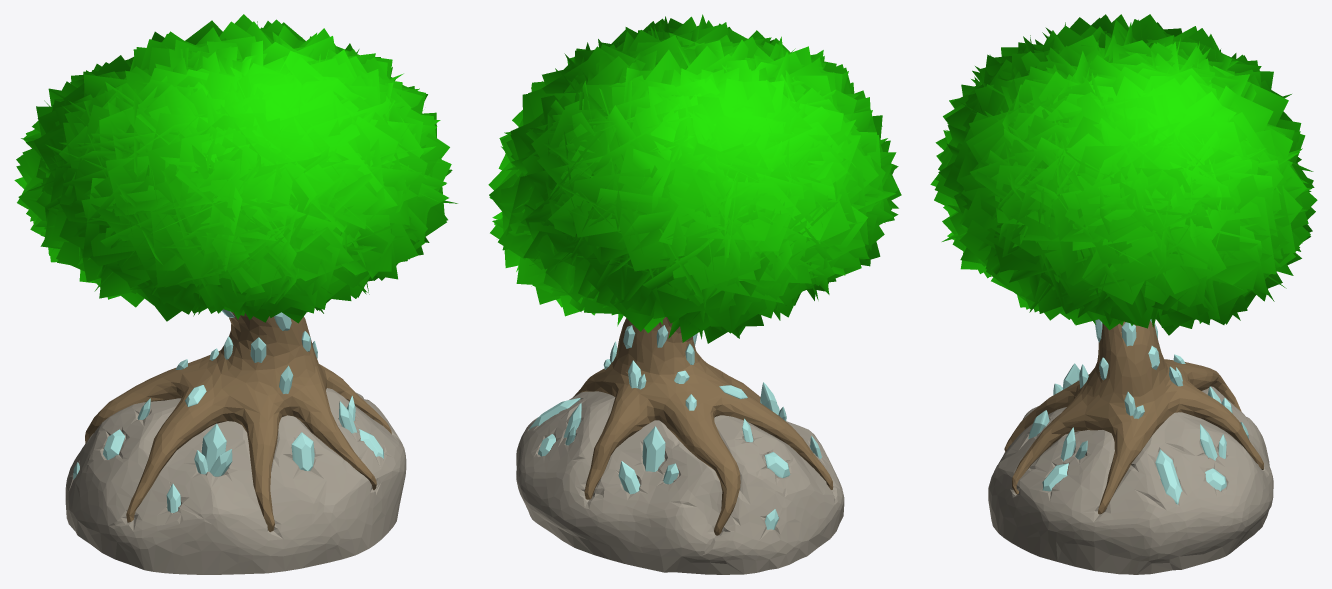
File: SM_MagicTreev2.fbx
The picture shows the model from 3 angles, left to right: view 1: azimuth 30°, elevation 25°; view 2: azimuth 150°, elevation 25°; view 3: azimuth 270°, elevation 25°; orthographic projection. The views are drawn at different scales.
Parts seen in each view (by area): view 1: Leaf, ROCK_LP, Tree_LP, Crystals Rock, Crystals Tree; view 2: Leaf, ROCK_LP, Tree_LP, Crystals Rock, Crystals Tree; view 3: Leaf, ROCK_LP, Tree_LP, Crystals Rock, Crystals Tree.
Part boxes in pixels (left/top/right/bottom): Leaf: left=14, top=14, right=457, bottom=323; ROCK_LP: left=65, top=388, right=406, bottom=574; Tree_LP: left=85, top=312, right=391, bottom=531; Crystals Rock: left=73, top=395, right=383, bottom=512; Crystals Tree: left=175, top=309, right=317, bottom=406; Leaf: left=488, top=14, right=901, bottom=343; ROCK_LP: left=516, top=391, right=844, bottom=574; Tree_LP: left=573, top=317, right=833, bottom=535; Crystals Rock: left=529, top=382, right=821, bottom=529; Crystals Tree: left=603, top=325, right=747, bottom=410; Leaf: left=930, top=14, right=1317, bottom=335; ROCK_LP: left=988, top=386, right=1273, bottom=574; Tree_LP: left=1004, top=321, right=1263, bottom=514; Crystals Rock: left=1028, top=363, right=1248, bottom=504; Crystals Tree: left=1079, top=319, right=1185, bottom=418.
Bounding box in the file's own units: 553 × 655 × 511.
